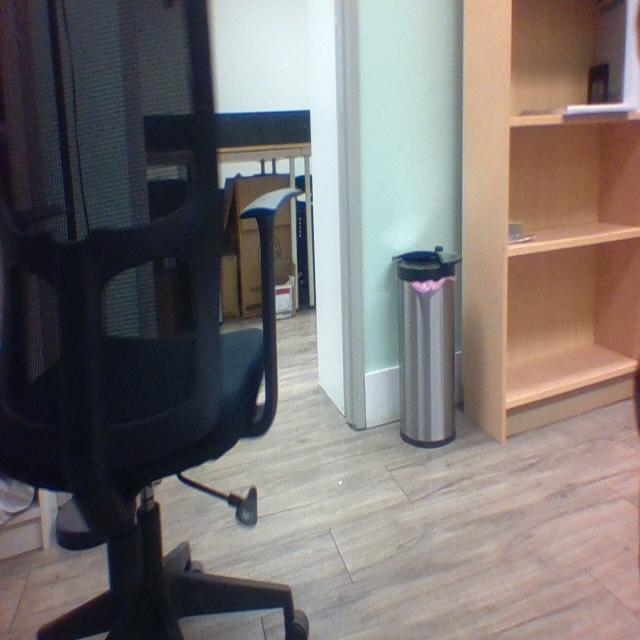black-chair: (0, 2, 308, 639)
